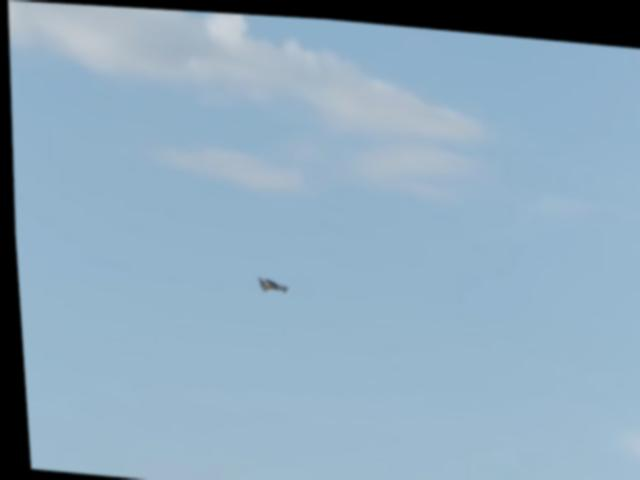uav: (249, 266, 291, 303)
